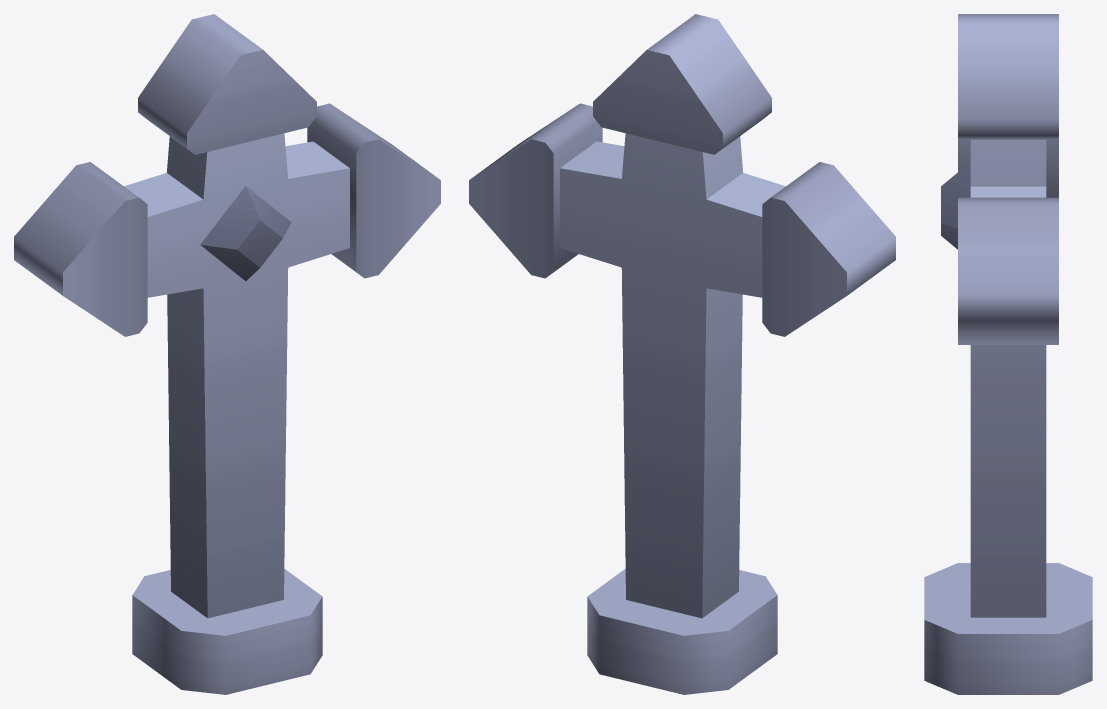
File: grave.cross.glb
3 views of the same model, side by side, from view 1: azimuth 30°, elevation 25°; view 2: azimuth 150°, elevation 25°; view 3: azimuth 270°, elevation 25° (orthographic). The views are drawn at different scales.
Parts seen in each view (by area): view 1: cross; view 2: cross; view 3: cross.
Boxes of the visible parts, x1,y1,x2,y2 form: cross: (14,14,440,694); cross: (469,14,895,694); cross: (924,14,1092,694).
Bounding box in the file's own units: 1.6 × 2.5 × 0.5966.
1 material, 1 textured.
